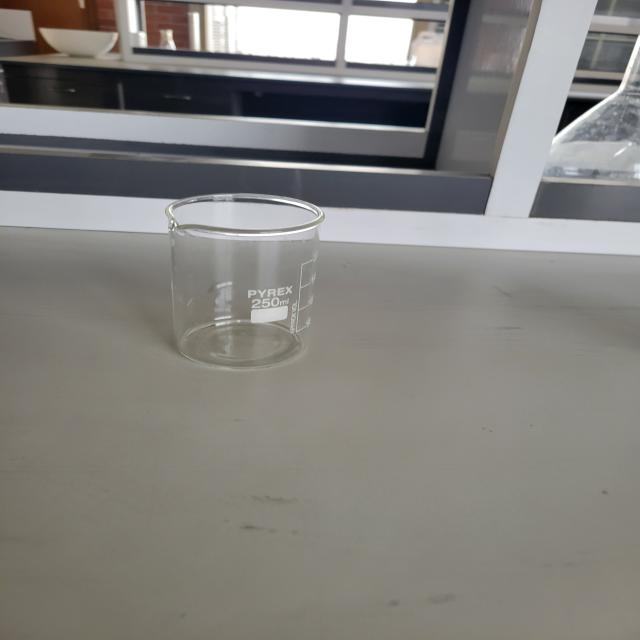Beaker: (158, 186, 334, 378)
